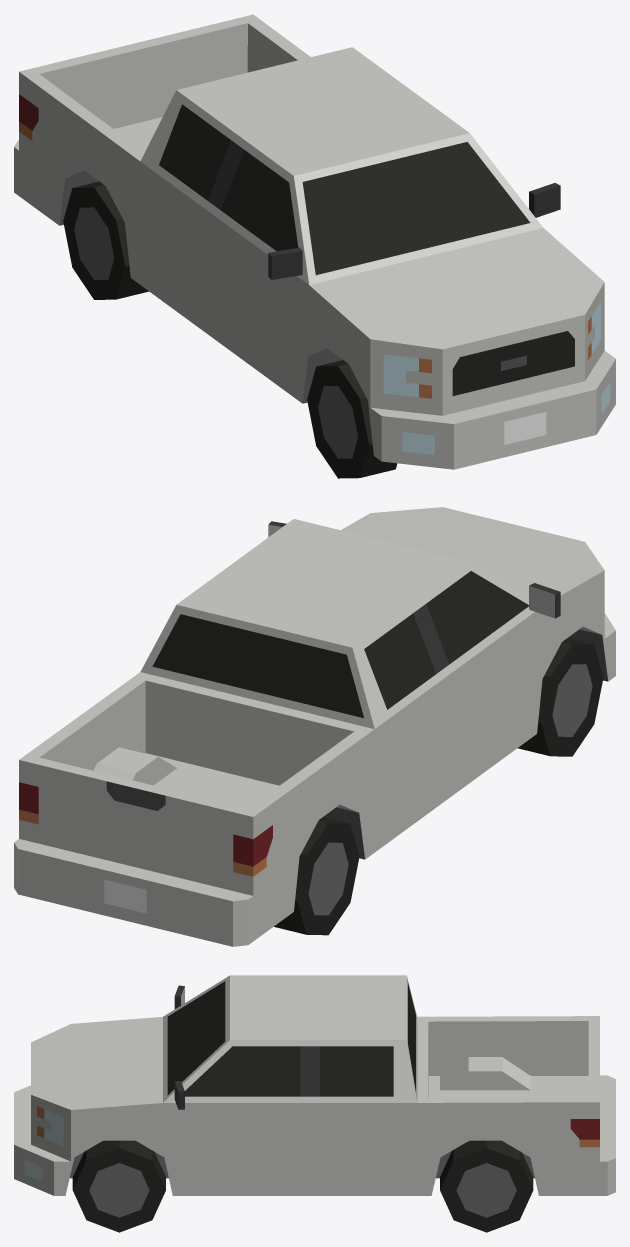
The model's file is Veh_Pickup_03_White.glb.
3 views of the same model, one above another, from view 1: azimuth 30°, elevation 25°; view 2: azimuth 150°, elevation 25°; view 3: azimuth 270°, elevation 25° (orthographic). The views are drawn at different scales.
Parts seen in each view (by area): view 1: Pickup_03_White, Wheel_FR, Wheel_RR; view 2: Pickup_03_White, Wheel_FR, Wheel_RR; view 3: Pickup_03_White, Wheel_FL, Wheel_RL.
Part boxes in pixels (left/top/right/bottom): Pickup_03_White: left=14, top=14, right=615, bottom=469; Wheel_FR: left=307, top=360, right=397, bottom=478; Wheel_RR: left=63, top=181, right=148, bottom=299; Pickup_03_White: left=14, top=507, right=615, bottom=946; Wheel_FR: left=518, top=638, right=603, bottom=756; Wheel_RR: left=274, top=816, right=359, bottom=935; Pickup_03_White: left=14, top=975, right=615, bottom=1195; Wheel_FL: left=72, top=1140, right=165, bottom=1232; Wheel_RL: left=440, top=1140, right=533, bottom=1232.
Bounding box in the file's own units: 1.37 × 1.1 × 3.29.
1 material, 1 textured.
